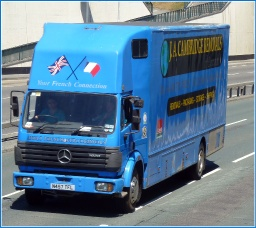truck: (10, 17, 233, 210)
